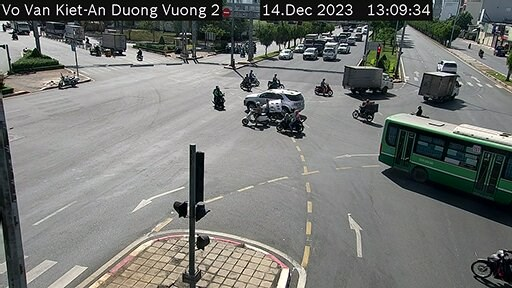bus: (381, 101, 512, 210)
car: (244, 83, 323, 115), (437, 56, 458, 73), (301, 46, 317, 63), (279, 45, 293, 60)
motorbike: (353, 99, 378, 124), (246, 102, 268, 128), (309, 77, 334, 99), (261, 69, 284, 89), (210, 85, 228, 109), (243, 66, 258, 85), (235, 73, 250, 90)
truck: (343, 59, 393, 96), (417, 71, 457, 104), (97, 28, 125, 52), (323, 43, 339, 64)
